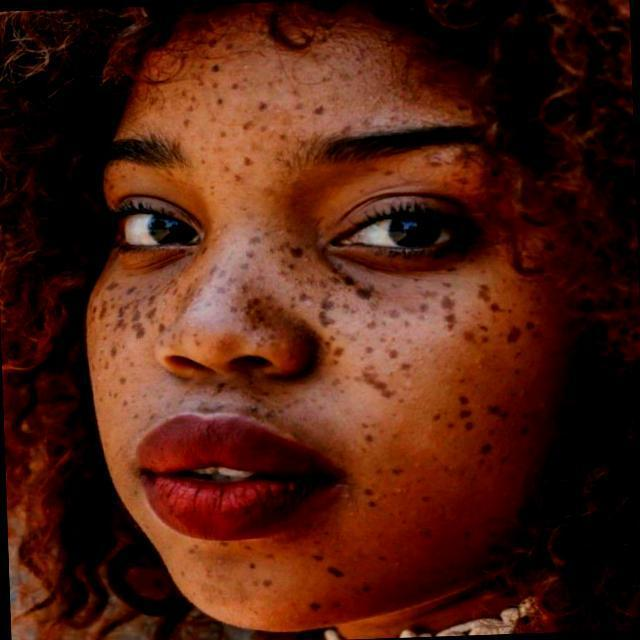freckle: (103, 239, 524, 368), (352, 354, 538, 561), (161, 37, 332, 187)
